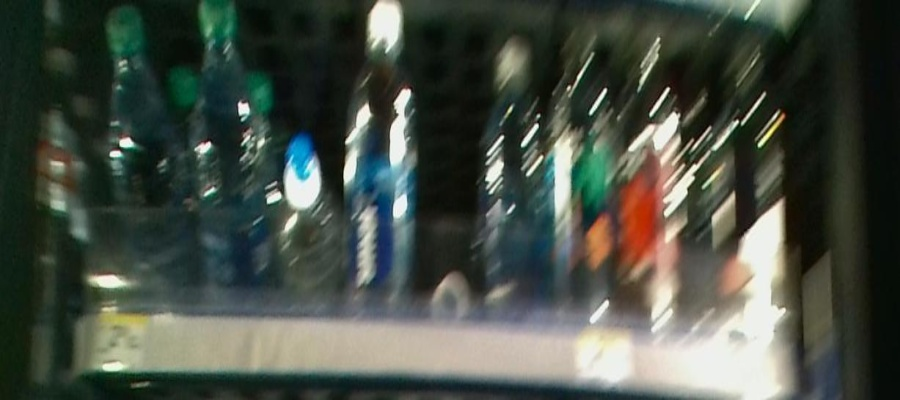bottle: (187, 1, 266, 306), (343, 11, 417, 299), (100, 6, 174, 284), (621, 25, 680, 360), (552, 6, 610, 321), (482, 26, 541, 302), (274, 130, 339, 314)
